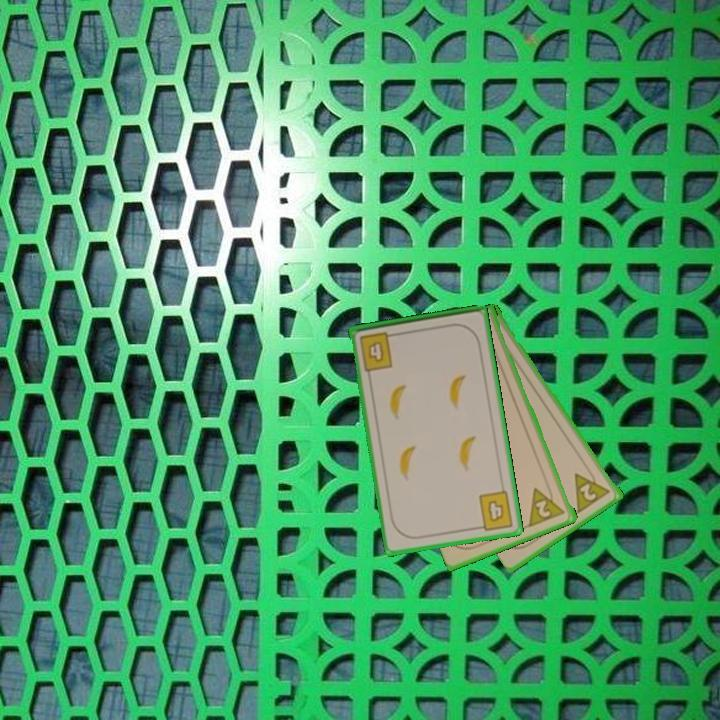2p: (571, 464, 613, 515), (526, 480, 568, 530)
4b: (473, 487, 516, 533), (356, 328, 399, 374)
